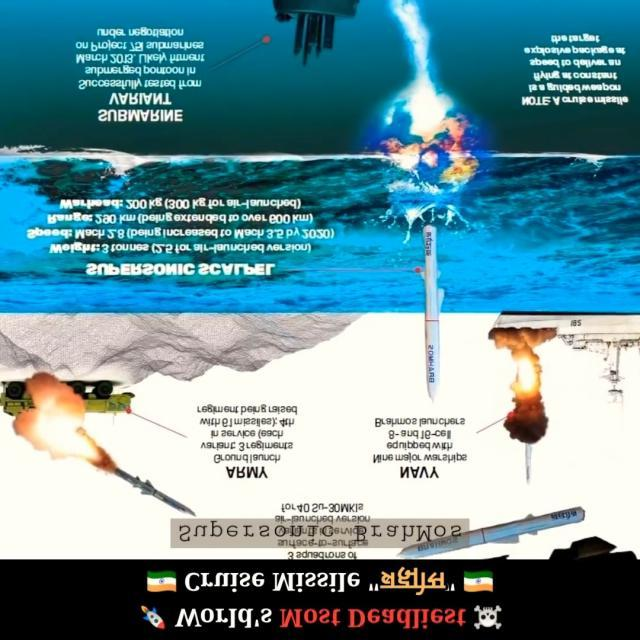Missile: (84, 446, 204, 522), (416, 225, 444, 407)
